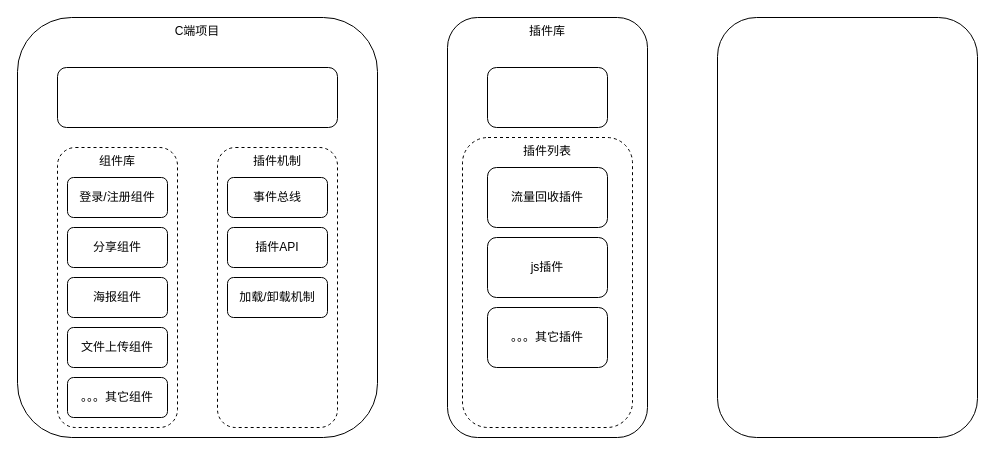
Some shapes in this 995 by 455 pixel diagram are drawn without their labels. Each missing label, with the centre of its shape:
"业务项目" belongs at point (197, 97).
"插件规范" belongs at point (547, 97).
